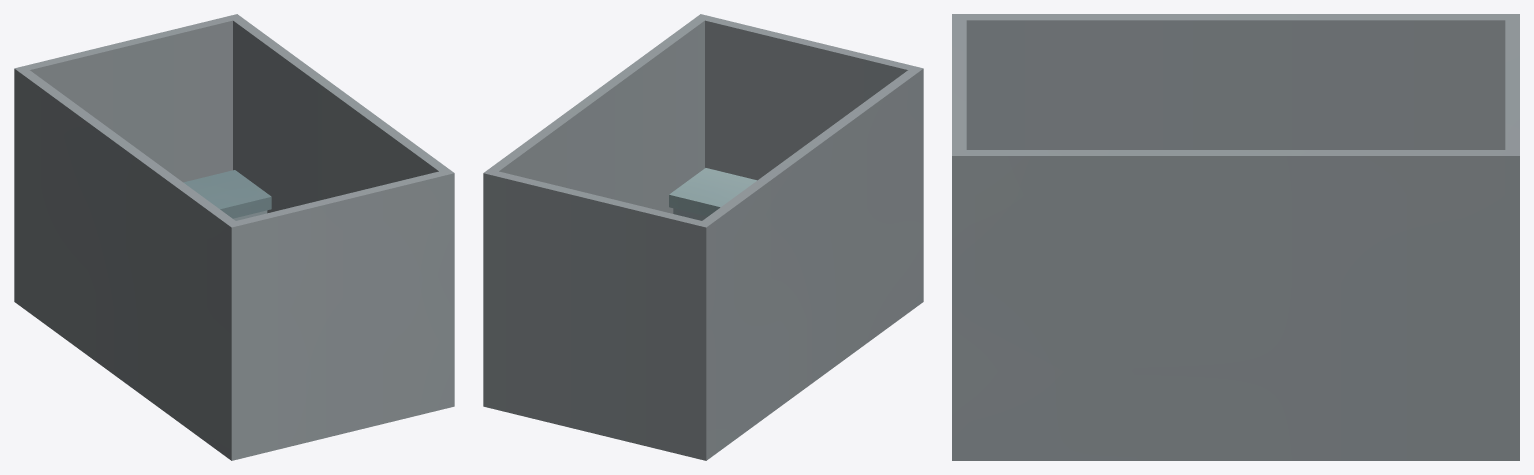
File: truck interior.fbx
The picture shows the model from 3 angles, left to right: view 1: azimuth 30°, elevation 25°; view 2: azimuth 150°, elevation 25°; view 3: azimuth 270°, elevation 25°; orthographic projection. The views are drawn at different scales.
Parts seen in each view (by area): view 1: Cube.003, Cube.014; view 2: Cube.003, Cube.012; view 3: Cube.003.
Boxes of the visible parts, x1,y1,x2,y2 form: Cube.003: [14, 14, 454, 460]; Cube.014: [183, 170, 271, 218]; Cube.003: [483, 14, 923, 460]; Cube.012: [669, 168, 756, 216]; Cube.003: [952, 14, 1519, 460].
Size of the model in its own units: 200 by 200 by 338.
Materials: 1 (1 with a texture image).
